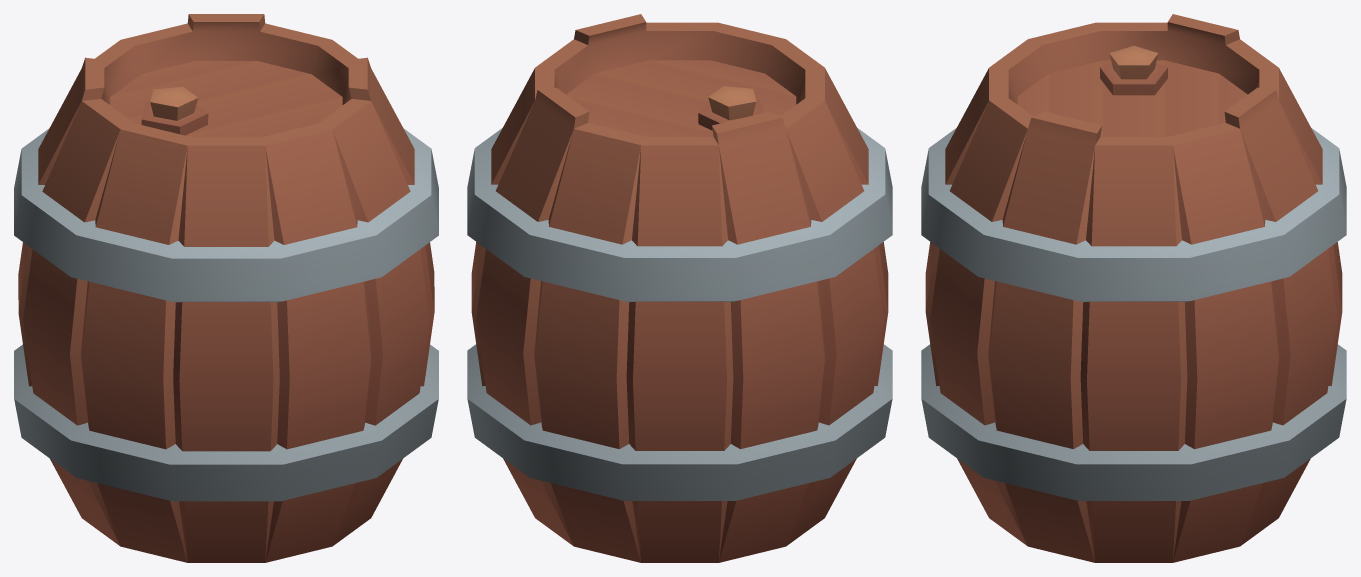
File: dungeon-barrel.glb
The picture shows the model from 3 angles, left to right: view 1: azimuth 30°, elevation 25°; view 2: azimuth 150°, elevation 25°; view 3: azimuth 270°, elevation 25°; orthographic projection.
Visible parts, largest first — view 1: dungeon-barrel; view 2: dungeon-barrel; view 3: dungeon-barrel.
Part boxes in pixels (x1,y1,x2,y2): dungeon-barrel: (14,14,438,562); dungeon-barrel: (467,14,892,562); dungeon-barrel: (921,14,1346,562).
Bounding box in the file's own units: 1.35 × 1.5 × 1.35.
1 material, 1 textured.
